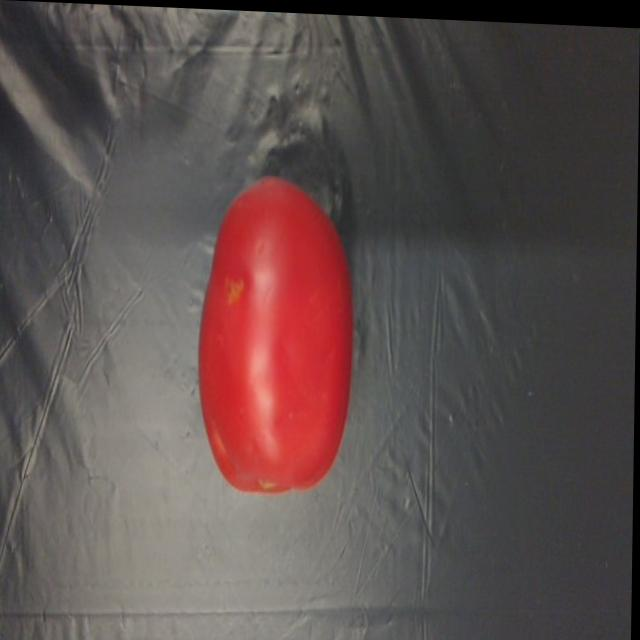kirmizi: (192, 155, 361, 523)
